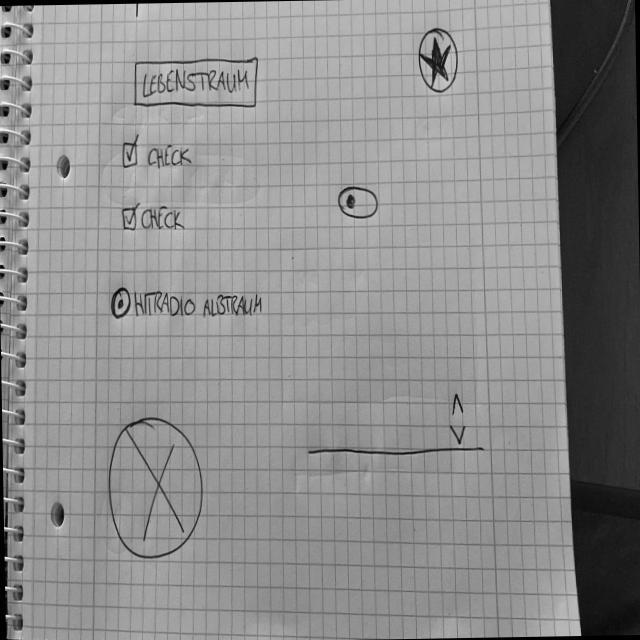button: (132, 52, 262, 114)
checkbox: (122, 132, 194, 172), (120, 200, 188, 236)
icon-button: (416, 24, 459, 95)
image: (101, 412, 206, 562)
number-input: (304, 386, 486, 460)
radio: (110, 282, 264, 324)
toggle: (338, 183, 380, 221)
